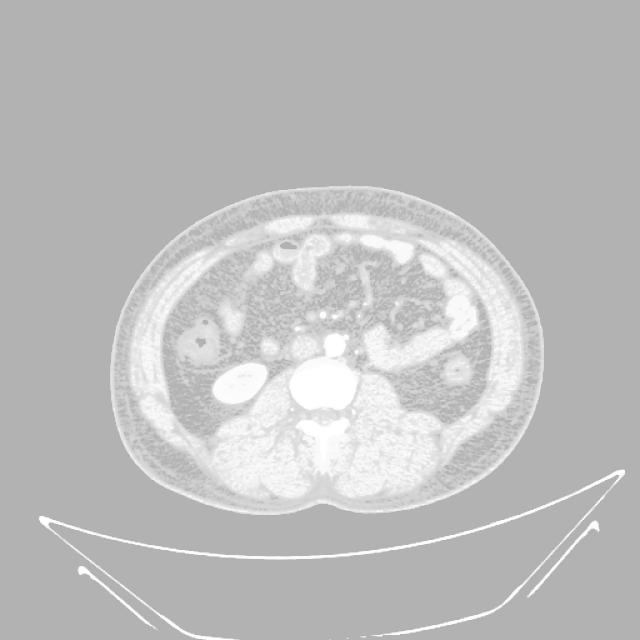NORMAL: (105, 182, 545, 522)
